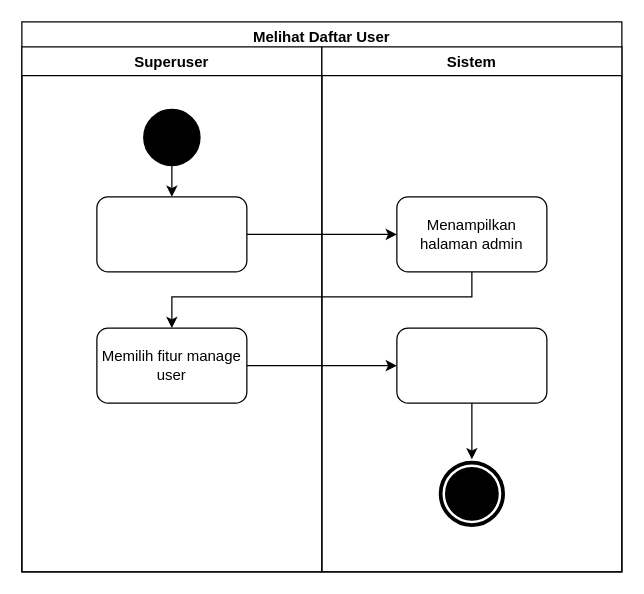
Image size: 644x594. Some labels were removed from this diagram. The centre of each missing label's shape, as x and y in pixels:
Membuka halaman admin: [171,234]
Menampilkan halaman daftar user: [471,365]
